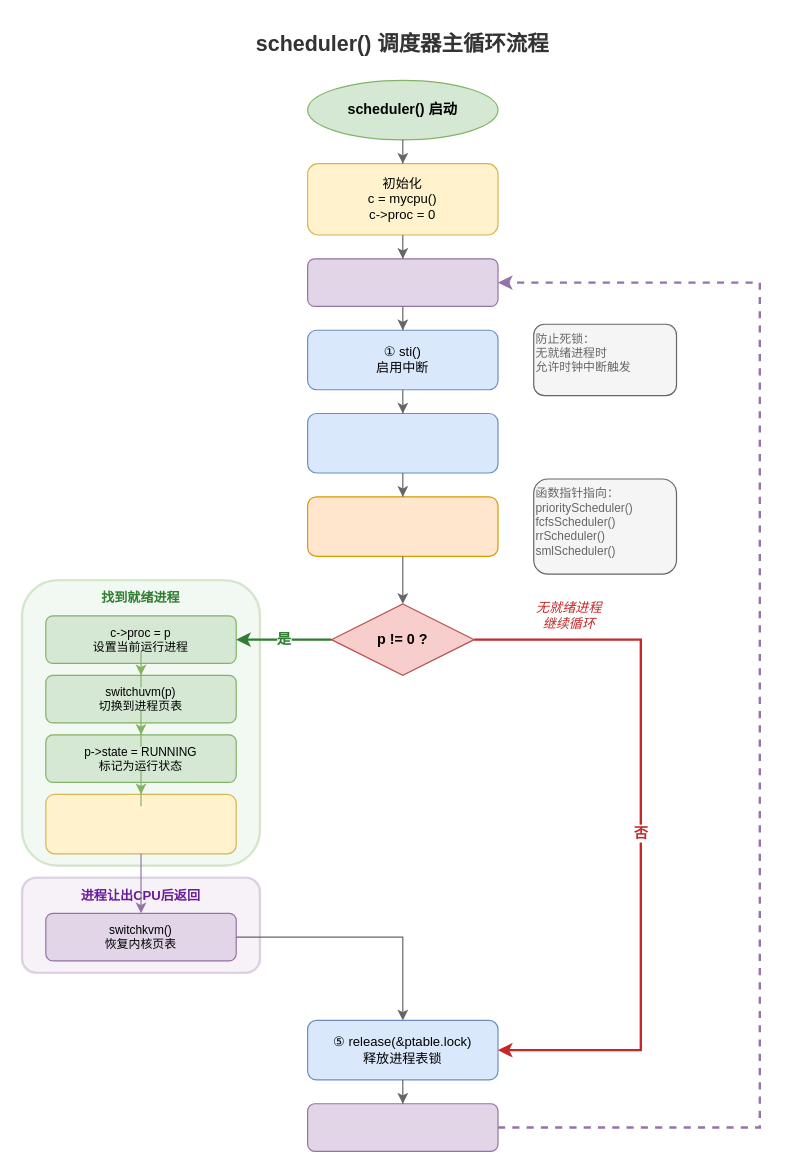
This 790x1172 diagram has some shape labels left out. The centre of each missing label's shape, as x and y in pixels:
for(;;) 无限循环: (402,282)
swtch(&c->scheduler, p->context) 执行上下文切换: (140,823)
② acquire(&ptable.lock) 获取进程表锁: (402,442)
③ p = (*ready_process)() 调用当前调度算法: (402,526)
回到循环开始: (402,1127)
